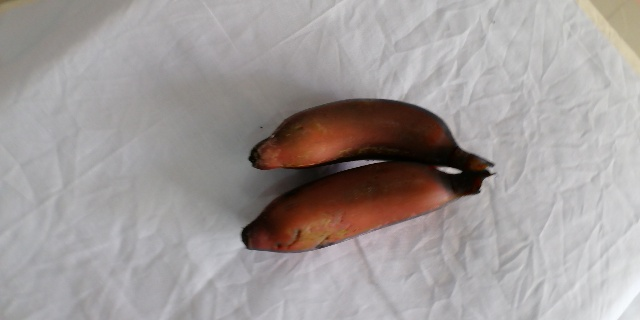banana_red: (235, 166, 500, 253), (248, 96, 495, 173)
